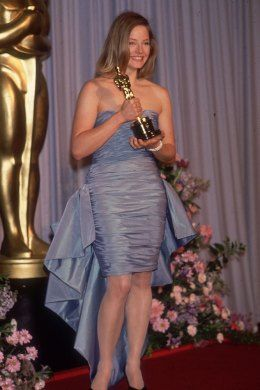hand: (117, 97, 140, 116)
